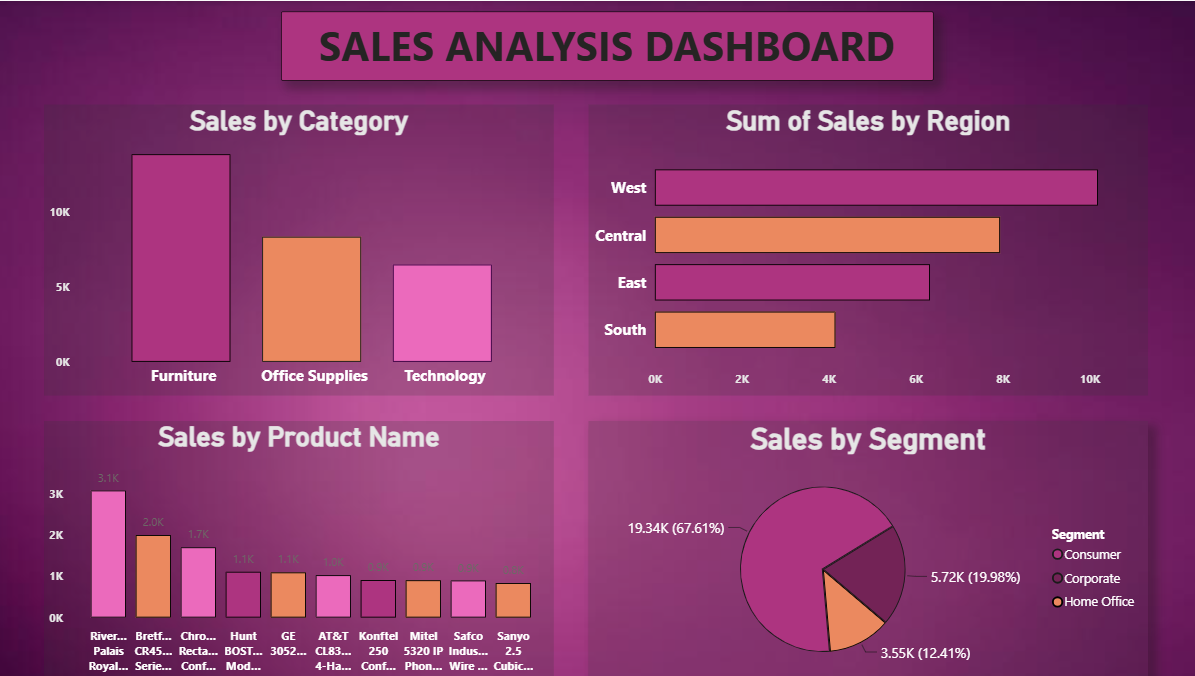

What the dashboard file says about the page in this screenshot:
{"tool":"powerbi","page":{"name":"Page 1","canvas":[1280,720],"ordinal":0},"visuals":[{"type":"columnChart","title":"Sales by Category","fields":{"Category":["sales_data_clean.Category"],"Y":["Sum(sales_data_clean.Sales)"]},"box":[50.9,109.8,540.8,308.6],"z":0},{"type":"clusteredBarChart","fields":{"Category":["sales_data_clean.Region"],"Y":["Sum(sales_data_clean.Sales)"]},"box":[628.3,109.8,593.3,308.6],"z":1000},{"type":"clusteredColumnChart","title":" Sales by Product Name","fields":{"Category":["sales_data_clean.Product Name"],"Y":["Sum(sales_data_clean.Sales)"]},"box":[50.9,445.4,540.8,275.2],"z":2000},{"type":"pieChart","title":"Sales by Segment","fields":{"Category":["sales_data_clean.Segment"],"Y":["Sum(sales_data_clean.Sales)"]},"box":[628.3,445.4,593.3,275.2],"z":3000},{"type":"textbox","box":[302.2,11.1,691.9,73.2],"z":4000}]}

Visuals, with their boxes in screenshot pixels (x1, y1, x2, y2), scaled from the page's 1280x720 canvas onto the 1195x676 screenshot:
"Sales by Category" columnChart: box=[48, 103, 552, 393]
clusteredBarChart - sales_data_clean.Region x Sum(sales_data_clean.Sales): box=[587, 103, 1140, 393]
" Sales by Product Name" clusteredColumnChart: box=[48, 418, 552, 675]
"Sales by Segment" pieChart: box=[587, 418, 1140, 675]
textbox: box=[282, 10, 928, 79]
